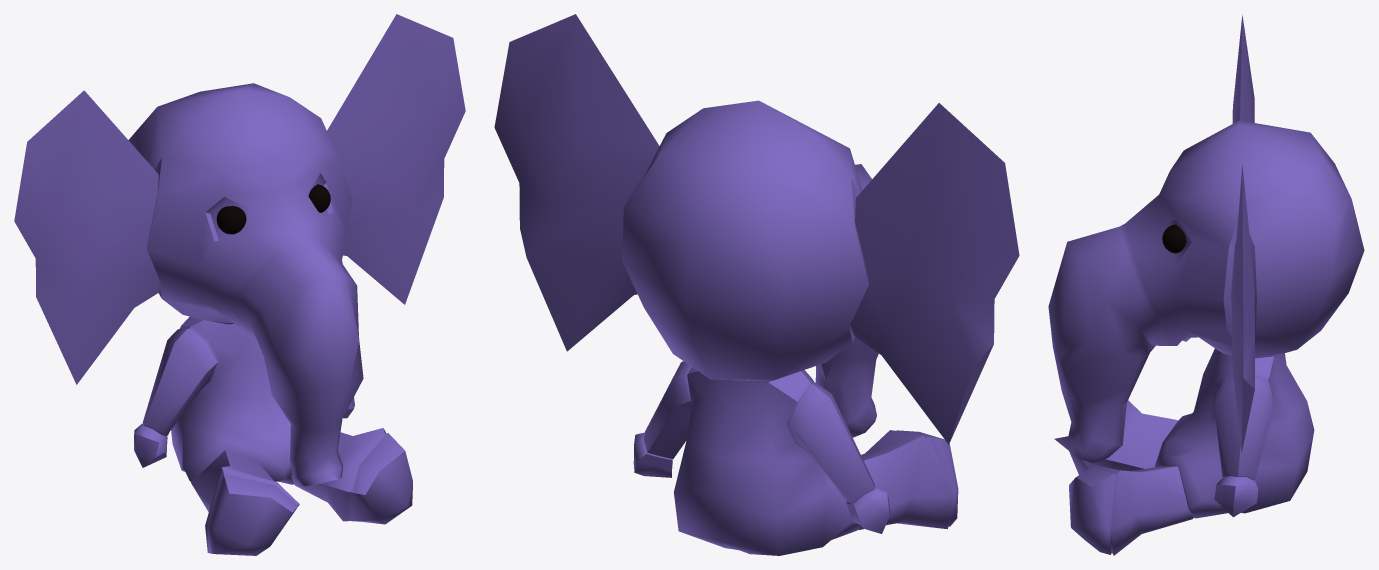
Rendered from Teddy elephant.fbx.
3 views of the same model, side by side, from view 1: azimuth 30°, elevation 25°; view 2: azimuth 150°, elevation 25°; view 3: azimuth 270°, elevation 25° (orthographic). The views are drawn at different scales.
Visible parts, largest first — view 1: Body, Eyes; view 2: Body; view 3: Body, Eyes.
Part boxes in pixels (left/top/right/bottom): Body: left=14, top=14, right=465, bottom=555; Eyes: left=216, top=184, right=330, bottom=234; Body: left=494, top=14, right=1019, bottom=555; Body: left=1048, top=15, right=1364, bottom=555; Eyes: left=1162, top=224, right=1186, bottom=253.
Bounding box in the file's own units: 45.84 × 42.12 × 28.36.
